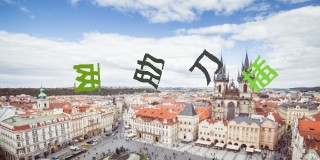两: (72, 61, 103, 93)
刀: (189, 49, 223, 85)
插: (240, 55, 278, 94)
肋: (133, 53, 165, 89)
